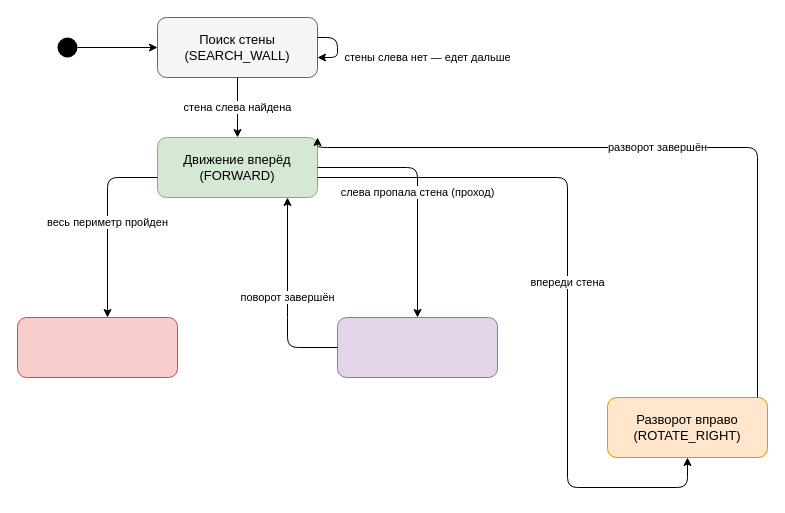
Image size: 785x513. Some labels were removed from this diagram. Here are the shapes that lost their labels. From the top down, the centre of each, then its label:
the point at 97,347: Остановка (STOP)
the point at 417,347: Поворот налево (TURN_LEFT)
